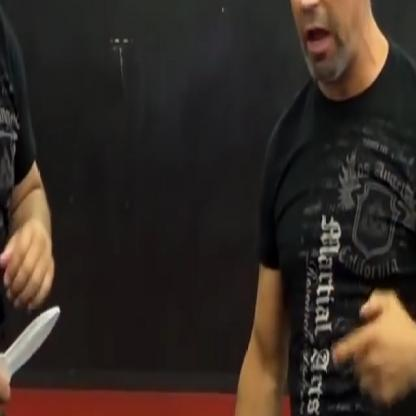knife: (0, 293, 67, 415)
